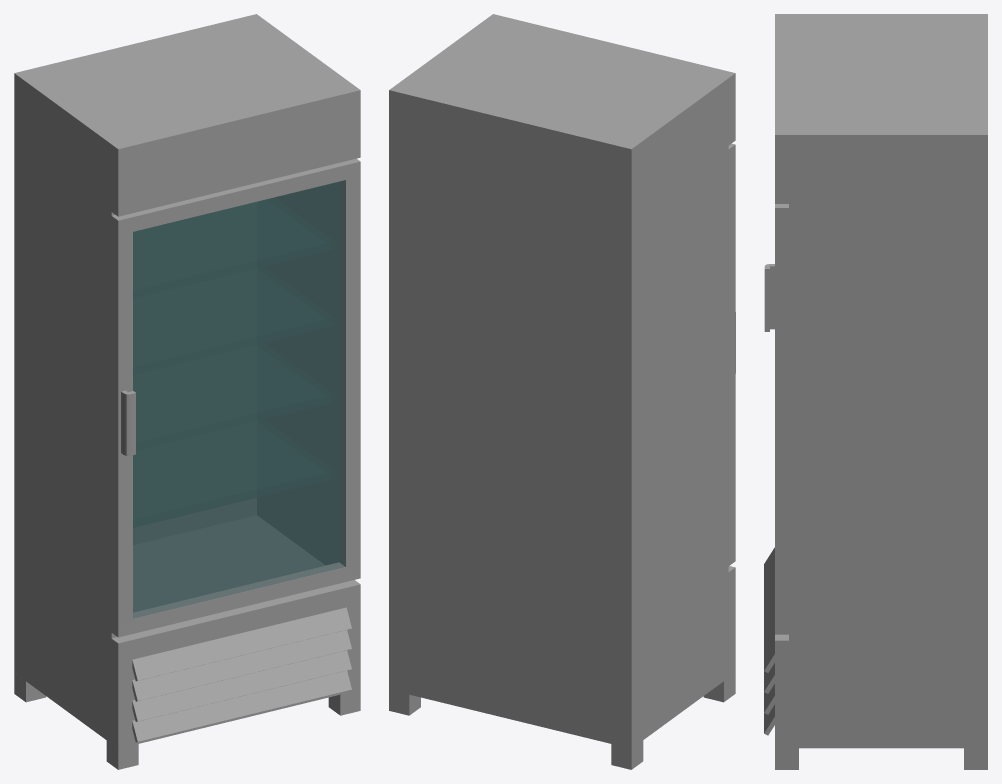
Rendered from Diner_SmallFridge.fbx.
The picture shows the model from 3 angles, left to right: view 1: azimuth 30°, elevation 25°; view 2: azimuth 150°, elevation 25°; view 3: azimuth 270°, elevation 25°; orthographic projection. The views are drawn at different scales.
Parts seen in each view (by area): view 1: pCube699; view 2: pCube699; view 3: pCube699.
Part boxes in pixels (<box>): pCube699: <box>14,14,360,769</box>; pCube699: <box>389,14,735,769</box>; pCube699: <box>764,14,987,769</box>.
Size of the model in its own units: 0.9963 by 2.44 by 0.7789.
